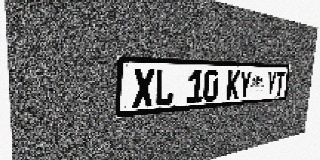0: (203, 70, 219, 102)
1: (187, 70, 204, 103)
K: (226, 70, 240, 100)
L: (154, 69, 175, 106)
T: (275, 71, 285, 96)
X: (132, 68, 155, 108)
Y: (238, 71, 252, 99), (265, 71, 277, 97)
